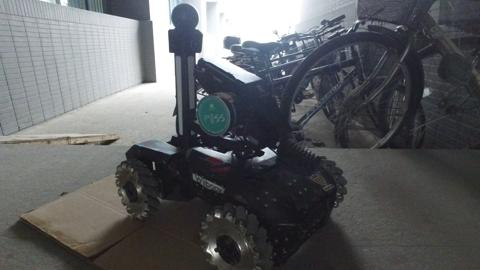bike: (269, 11, 469, 143)
chariot: (106, 9, 316, 262)
